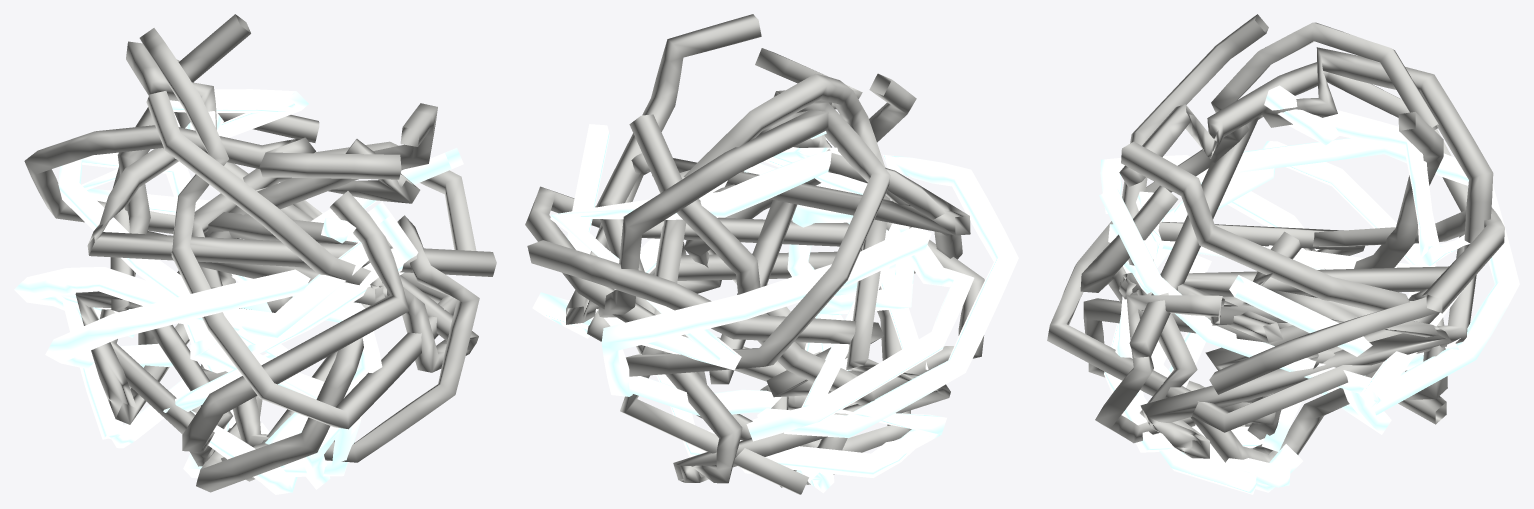
Rendered from mycelium_fiber.glb.
3 renders of one model, left to right at view 1: azimuth 30°, elevation 25°; view 2: azimuth 150°, elevation 25°; view 3: azimuth 270°, elevation 25°, orthographic. The views are drawn at different scales.
Visible parts, largest first — view 1: MyceliumFiber; view 2: MyceliumFiber; view 3: MyceliumFiber.
Part boxes in pixels (x1,y1,x2,y2): MyceliumFiber: [14, 14, 496, 494]; MyceliumFiber: [525, 14, 1018, 494]; MyceliumFiber: [1047, 14, 1519, 494].
Bounding box in the file's own units: 0.3072 × 0.2984 × 0.2978.
